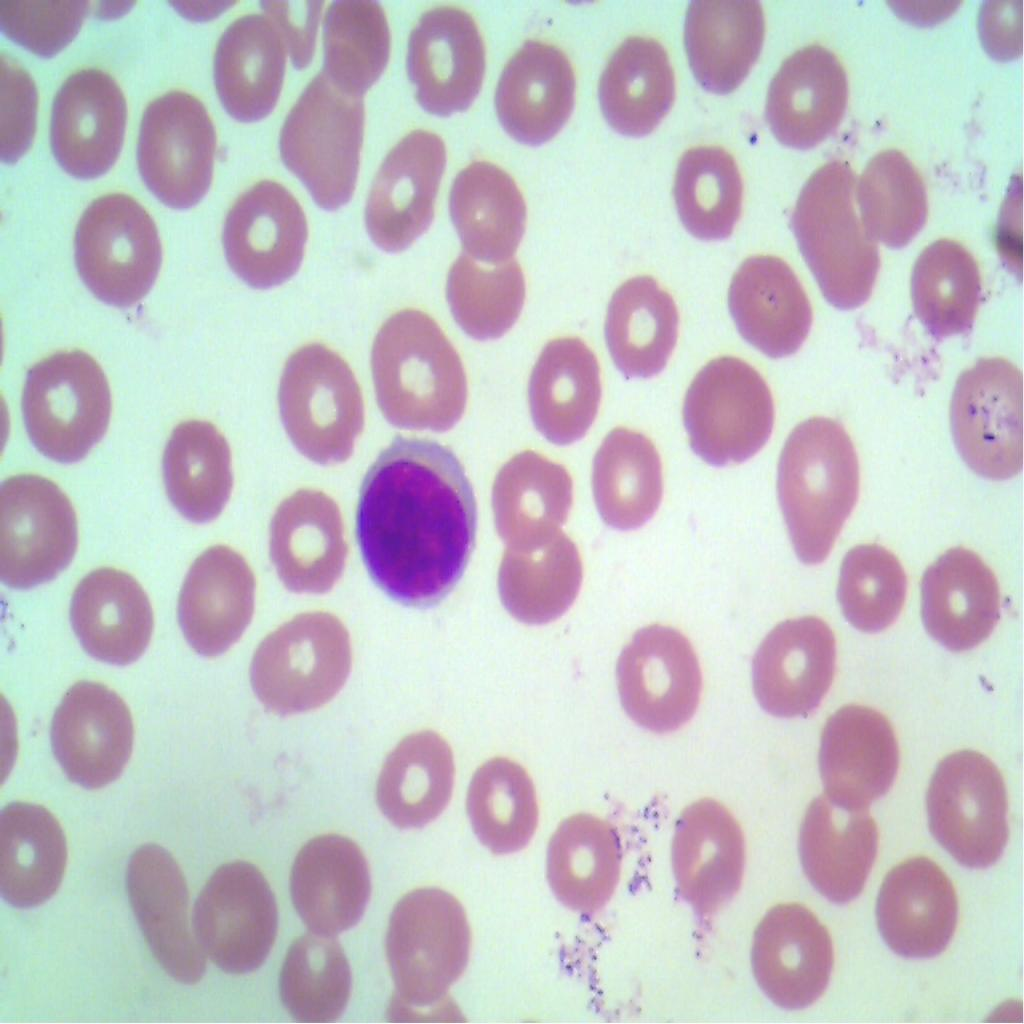Eritrosit: (784, 156, 891, 314), (0, 337, 119, 475), (910, 732, 1020, 874), (773, 392, 861, 562), (598, 610, 706, 744), (363, 312, 474, 438), (918, 541, 1024, 671), (666, 781, 756, 931), (211, 171, 308, 305), (580, 422, 678, 552), (270, 346, 372, 470), (246, 607, 363, 714), (128, 834, 208, 989), (39, 674, 139, 798), (278, 82, 366, 221), (678, 352, 772, 481), (726, 244, 826, 364), (356, 124, 443, 261), (183, 862, 283, 981), (741, 898, 836, 1023), (596, 260, 689, 387), (591, 34, 691, 152), (68, 195, 162, 319), (806, 690, 900, 814), (514, 321, 608, 444), (738, 604, 842, 714), (51, 566, 153, 676), (794, 787, 883, 912), (133, 90, 218, 220), (386, 882, 471, 1012), (284, 808, 371, 934), (198, 14, 290, 132), (254, 482, 352, 592), (44, 65, 129, 191), (0, 465, 82, 595), (484, 40, 574, 157), (460, 754, 550, 868), (542, 810, 632, 922), (399, 0, 479, 125), (762, 41, 855, 148), (174, 539, 258, 657), (0, 794, 79, 917), (876, 851, 956, 972), (658, 144, 751, 247), (948, 357, 1023, 482), (675, 0, 766, 101), (306, 0, 386, 108), (169, 417, 241, 530), (860, 148, 938, 252), (836, 527, 906, 642), (376, 732, 456, 832), (450, 161, 528, 261), (911, 239, 989, 337), (278, 935, 360, 1023), (446, 254, 526, 341)
Limfosit: (353, 431, 476, 619)
Platelet: (738, 118, 764, 157)
